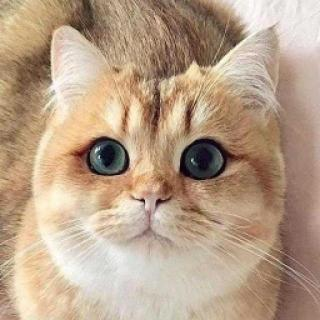cat: (37, 28, 290, 296)
nose: (126, 172, 173, 214)
